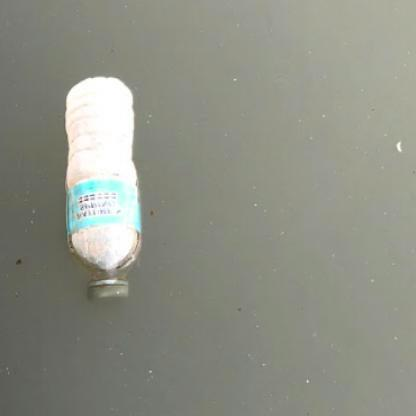Plastic: (62, 73, 146, 306)
